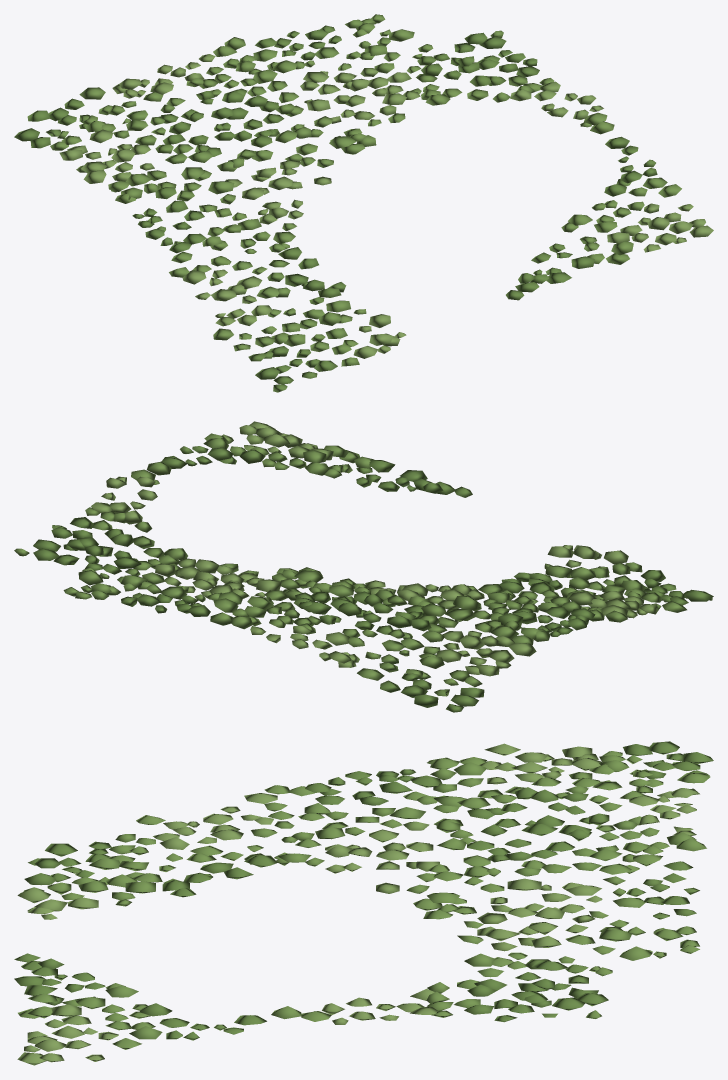
The model's file is canopy-1-1-0.glb.
The picture shows the model from 3 angles, top to bottom: view 1: azimuth 30°, elevation 25°; view 2: azimuth 150°, elevation 25°; view 3: azimuth 270°, elevation 25°; orthographic projection. The views are drawn at different scales.
Bounding box in the file's own units: 518 × 128 × 518.
Materials: 1 (1 with a texture image).
